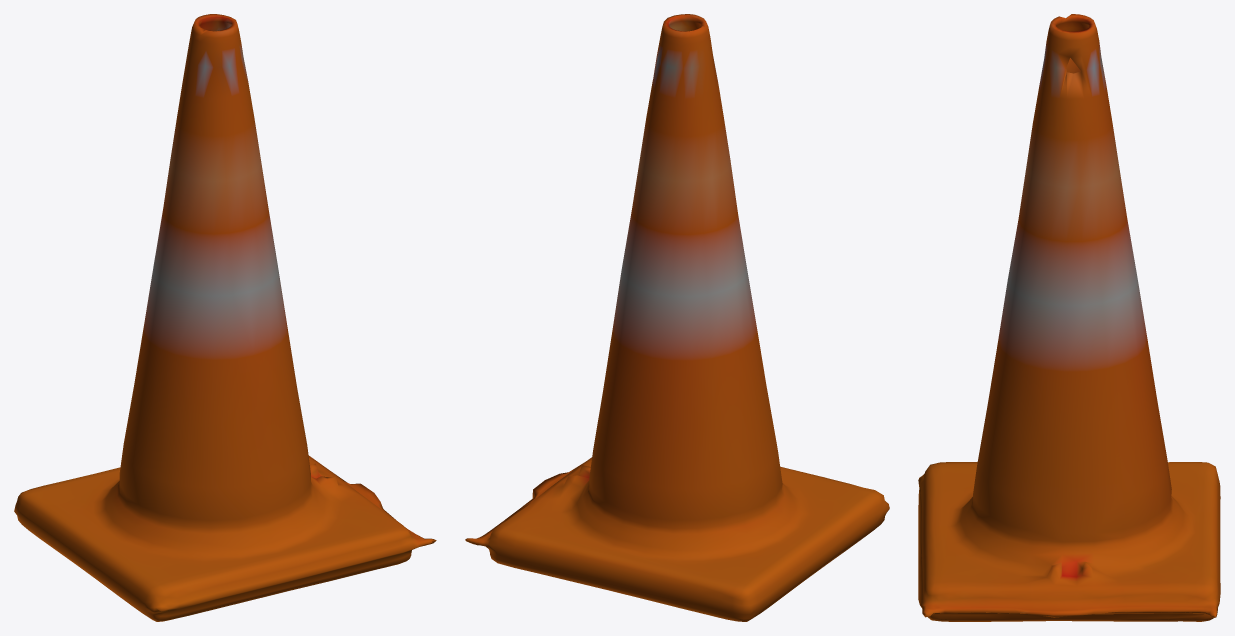
File: 6225737-traffic-cone-game.glb
3 renders of one model, left to right at view 1: azimuth 30°, elevation 25°; view 2: azimuth 150°, elevation 25°; view 3: azimuth 270°, elevation 25°, orthographic. The views are drawn at different scales.
Parts seen in each view (by area): view 1: Retopo_neural_node_7a00125d-cfee-4dee-9021-e183bc0fa2da; view 2: Retopo_neural_node_7a00125d-cfee-4dee-9021-e183bc0fa2da; view 3: Retopo_neural_node_7a00125d-cfee-4dee-9021-e183bc0fa2da.
Boxes of the visible parts, bbox=[...] form: Retopo_neural_node_7a00125d-cfee-4dee-9021-e183bc0fa2da: bbox=[14, 14, 436, 621]; Retopo_neural_node_7a00125d-cfee-4dee-9021-e183bc0fa2da: bbox=[465, 14, 889, 621]; Retopo_neural_node_7a00125d-cfee-4dee-9021-e183bc0fa2da: bbox=[918, 14, 1220, 621].
Bounding box in the file's own units: 0.5417 × 0.9472 × 0.4819.
